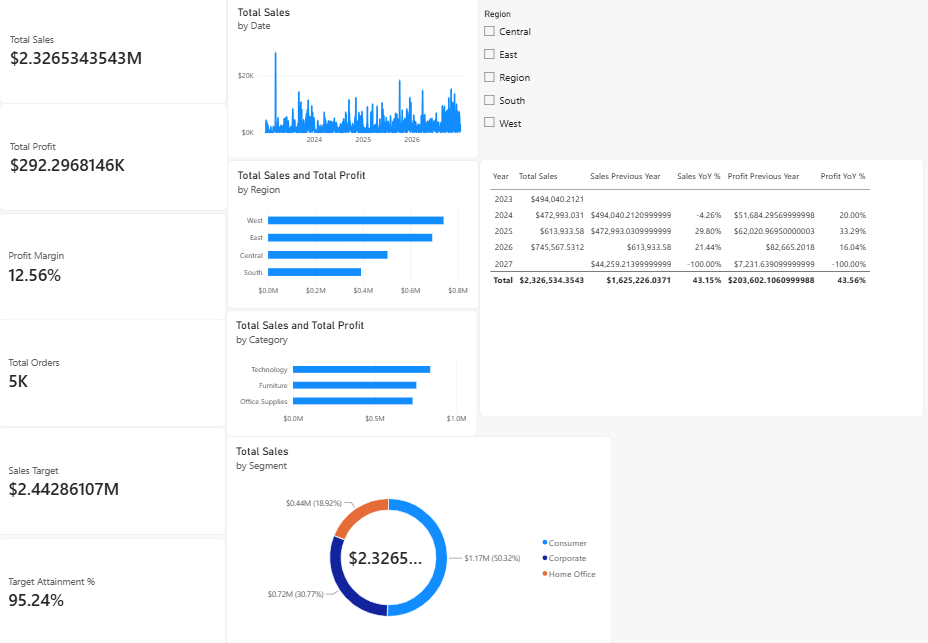

The page's visual inventory and layout, read from the dashboard file:
{"tool":"powerbi","page":{"name":"Executive Overview","canvas":[1920,1080],"ordinal":0},"visuals":[{"type":"cardVisual","fields":{"Data":["FactSales.Total Sales"]},"box":[2.8,0,379.8,178.6],"z":1},{"type":"cardVisual","fields":{"Data":["FactSales.Total Profit"]},"box":[2.8,178.6,380,179],"z":2},{"type":"cardVisual","fields":{"Data":["FactSales.Profit Margin"]},"box":[0,360,380,179],"z":3},{"type":"cardVisual","fields":{"Data":["FactSales.Total Orders"]},"box":[0,538.6,380,179],"z":4},{"type":"cardVisual","fields":{"Data":["FactSales.Sales Target"]},"box":[0,717.2,380,179],"z":5},{"type":"cardVisual","fields":{"Data":["FactSales.Target Attainment %"]},"box":[0,901.4,380,179],"z":6},{"type":"lineChart","fields":{"Category":["DimDate.Date"],"Y":["FactSales.Total Sales"]},"box":[383.3,0,418.3,268.3],"z":7},{"type":"clusteredBarChart","fields":{"Category":["DimRegion.Column1"],"Y":["FactSales.Total Sales"]},"box":[383.3,271.7,418.3,246.7],"z":8},{"type":"clusteredBarChart","fields":{"Category":["DimProduct.Column3"],"Y":["FactSales.Total Sales"]},"box":[380,523.3,418.3,210],"z":9},{"type":"donutChart","fields":{"Category":["DimCustomer.Column3"],"Y":["FactSales.Total Sales"]},"box":[380,733.3,643.3,346.7],"z":10},{"type":"slicer","fields":{"Values":["DimRegion.Region"]},"box":[801.7,20,306.7,233.3],"z":11},{"type":"tableEx","fields":{"Values":["DimDate.Year","FactSales.Total Sales","FactSales.Sales Previous Year","FactSales.Sales YoY %","FactSales.Profit Previous Year","FactSales.Profit YoY %"]},"box":[801.2,268.8,740,430],"z":12}]}

Visuals, with their boxes on the page's 1920x1080 design canvas (x1, y1, x2, y2). These are canvas units, not pixel positions in the 928x643 screenshot, which may show the page scaled, cropped or inside an application window:
cardVisual - FactSales.Total Sales: rect(3, 0, 383, 179)
cardVisual - FactSales.Total Profit: rect(3, 179, 383, 358)
cardVisual - FactSales.Profit Margin: rect(0, 360, 380, 539)
cardVisual - FactSales.Total Orders: rect(0, 539, 380, 718)
cardVisual - FactSales.Sales Target: rect(0, 717, 380, 896)
cardVisual - FactSales.Target Attainment %: rect(0, 901, 380, 1080)
lineChart - DimDate.Date x FactSales.Total Sales: rect(383, 0, 802, 268)
clusteredBarChart - DimRegion.Column1 x FactSales.Total Sales: rect(383, 272, 802, 518)
clusteredBarChart - DimProduct.Column3 x FactSales.Total Sales: rect(380, 523, 798, 733)
donutChart - DimCustomer.Column3 x FactSales.Total Sales: rect(380, 733, 1023, 1080)
slicer - DimRegion.Region: rect(802, 20, 1108, 253)
tableEx - DimDate.Year x FactSales.Total Sales: rect(801, 269, 1541, 699)
